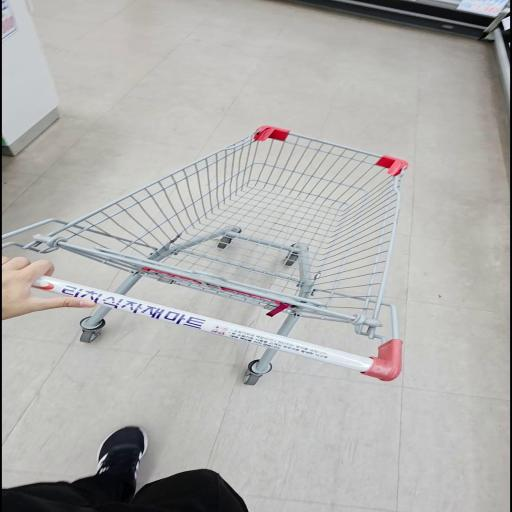empty_cart: (5, 127, 404, 380)
